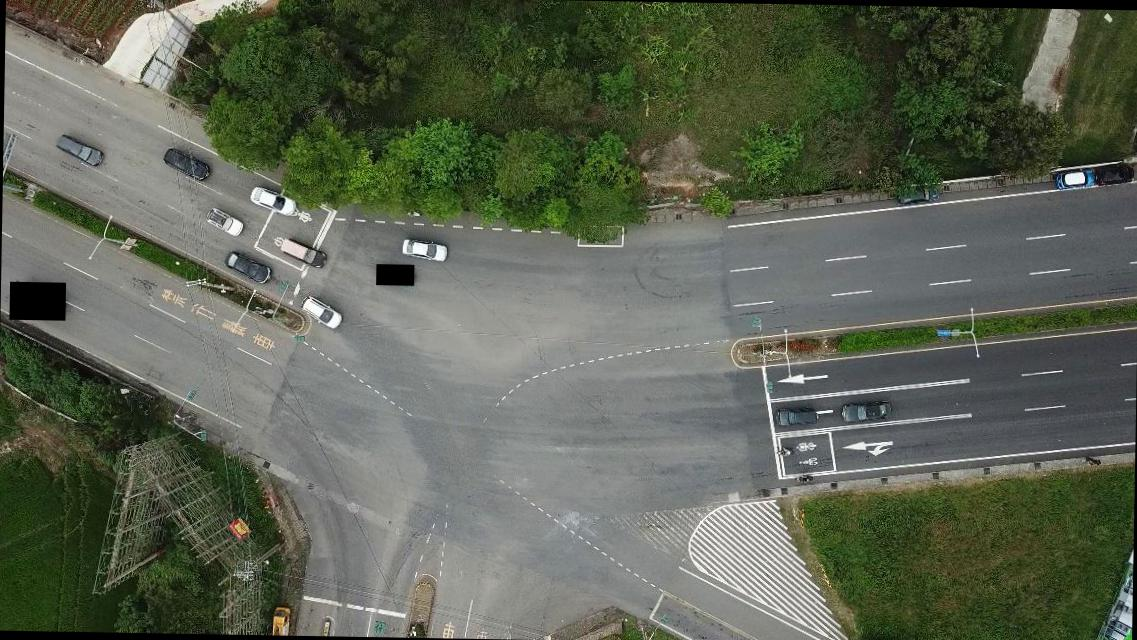vehicle: (300, 294, 344, 330), (226, 250, 272, 284), (163, 148, 210, 180), (58, 134, 104, 166), (281, 237, 327, 267), (251, 186, 296, 216), (204, 206, 244, 237), (841, 398, 890, 423), (401, 239, 447, 262), (896, 183, 940, 206), (1096, 163, 1136, 187), (1054, 168, 1094, 192), (776, 406, 818, 426), (272, 607, 292, 634)
